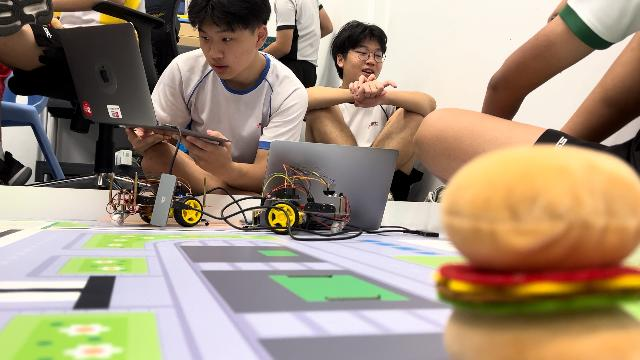burger: (434, 142, 640, 360)
